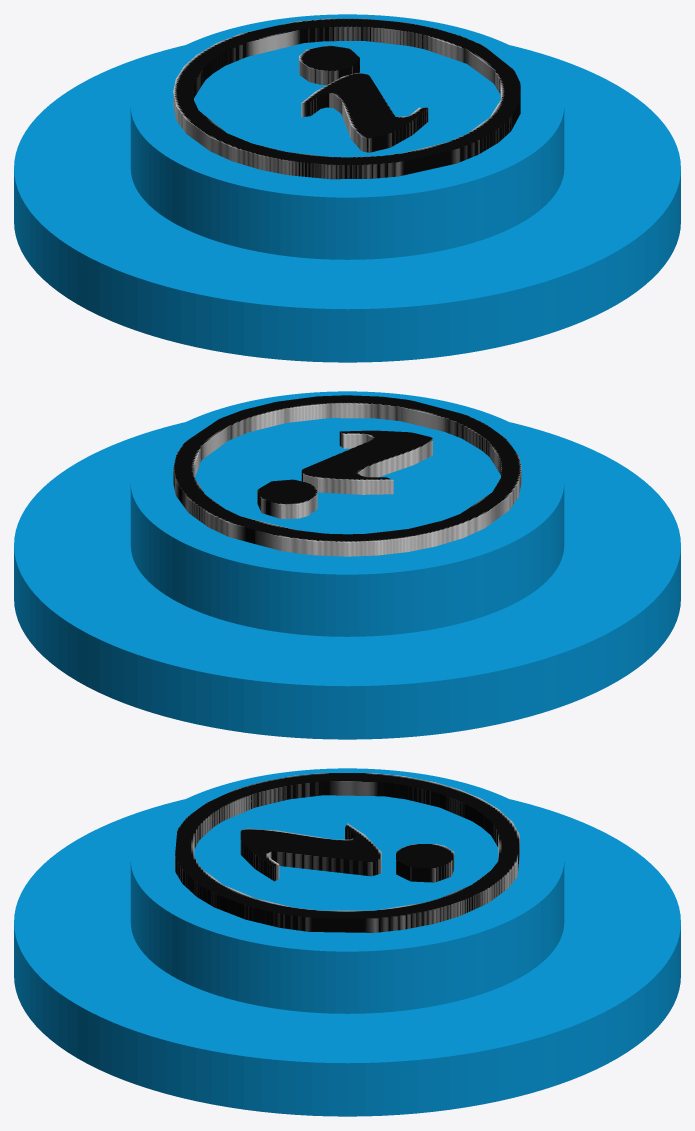
Rendered from bouton-info.gltf.
3 renders of one model, top to bottom at view 1: azimuth 30°, elevation 25°; view 2: azimuth 150°, elevation 25°; view 3: azimuth 270°, elevation 25°, orthographic.
Bounding box in the file's own units: 0.04 × 0.00979 × 0.04.
Materials: 2 (1 with a texture image).
